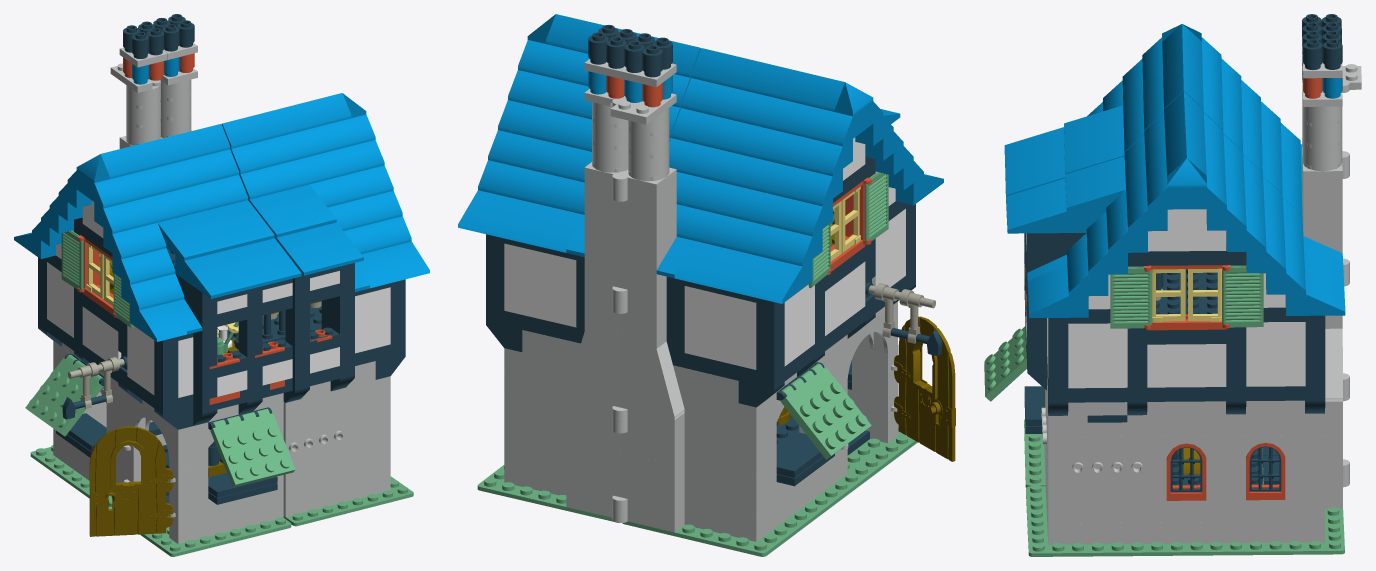
The picture shows the model from 3 angles, left to right: view 1: azimuth 30°, elevation 25°; view 2: azimuth 150°, elevation 25°; view 3: azimuth 270°, elevation 25°; orthographic projection. The views are drawn at different scales.
Parts seen in each view (by area): view 1: Piece311, Piece310, Piece000, Piece301, Piece389, Piece062, Piece177, Piece277, Piece247, Piece549, Piece554, Piece556 (+83 smaller); view 2: Piece311, Piece000, Piece301, Piece142, Piece380, Piece300, Piece140, Piece202, Piece350, Piece055, Piece332, Piece053 (+120 smaller); view 3: Piece547, Piece537, Piece545, Piece542, Piece530, Piece512, Piece600, Piece602, Piece389, Piece380, Piece360, Piece310 (+113 smaller).
Part boxes in pixels (bbox=[...]): Piece311: bbox=[89, 426, 173, 536]; Piece310: bbox=[210, 408, 295, 487]; Piece000: bbox=[30, 445, 291, 556]; Piece301: bbox=[25, 355, 103, 436]; Piece389: bbox=[356, 241, 429, 288]; Piece062: bbox=[94, 193, 172, 233]; Piece177: bbox=[124, 392, 193, 467]; Piece277: bbox=[169, 502, 268, 543]; Piece247: bbox=[175, 253, 241, 298]; Piece549: bbox=[283, 399, 375, 440]; Piece554: bbox=[283, 456, 375, 497]; Piece556: bbox=[300, 471, 390, 513]; Piece311: bbox=[894, 316, 955, 461]; Piece000: bbox=[622, 424, 917, 556]; Piece301: bbox=[780, 363, 871, 459]; Piece142: bbox=[710, 249, 812, 303]; Piece380: bbox=[458, 190, 549, 244]; Piece300: bbox=[638, 341, 684, 420]; Piece140: bbox=[740, 189, 832, 236]; Piece202: bbox=[761, 129, 852, 176]; Piece350: bbox=[488, 130, 569, 176]; Piece055: bbox=[735, 91, 816, 137]; Piece332: bbox=[508, 70, 589, 116]; Piece053: bbox=[669, 138, 742, 184]; Piece547: bbox=[1026, 484, 1344, 556]; Piece537: bbox=[1166, 499, 1324, 522]; Piece545: bbox=[1147, 521, 1304, 543]; Piece542: bbox=[1048, 500, 1166, 523]; Piece530: bbox=[1048, 479, 1166, 501]; Piece512: bbox=[1186, 413, 1304, 436]; Piece600: bbox=[1222, 265, 1263, 327]; Piece602: bbox=[1110, 266, 1151, 328]; Piece389: bbox=[1027, 263, 1088, 317]; Piece380: bbox=[1285, 261, 1345, 315]; Piece360: bbox=[1006, 195, 1086, 233]; Piece310: bbox=[984, 326, 1026, 401].
Bounding box in the file's own units: 211 × 256 × 191.
